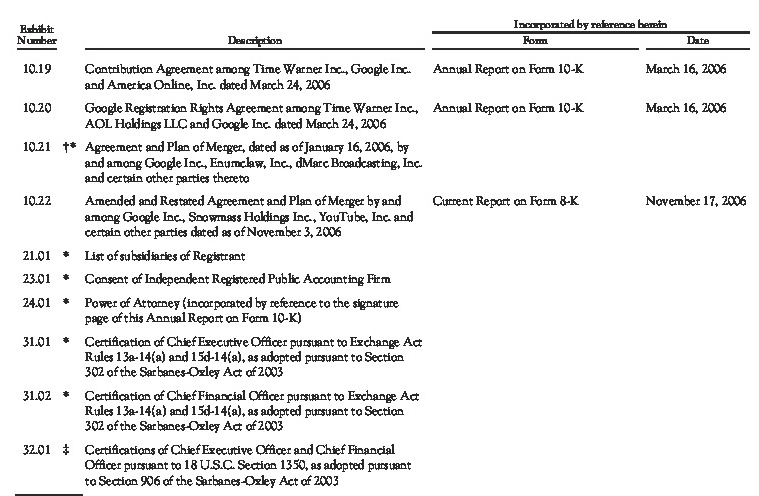table: (0, 0, 759, 496)
